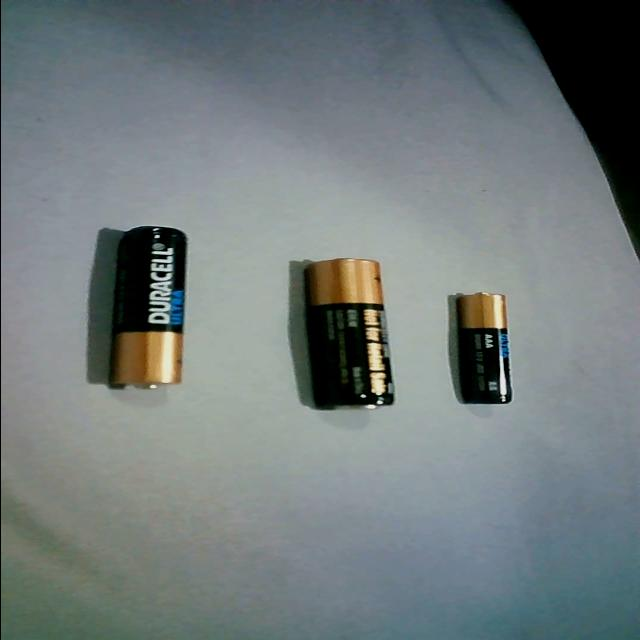AA: (300, 252, 404, 414)
AAA: (100, 222, 206, 392), (446, 286, 522, 410)
